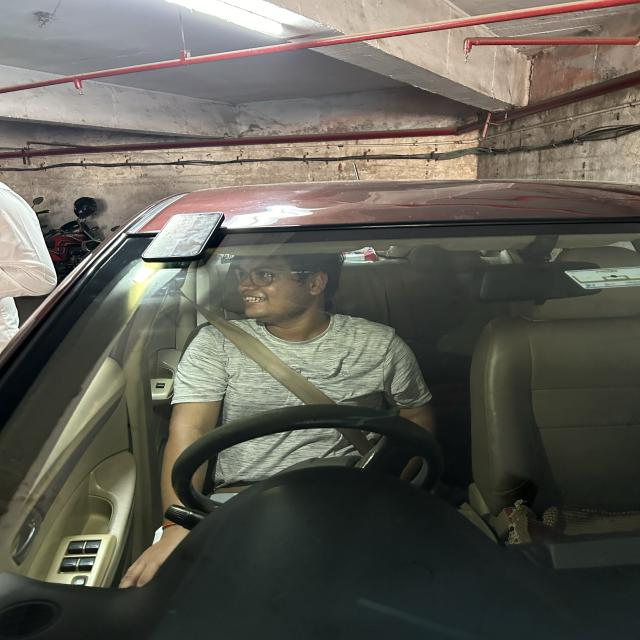seatbelt: (171, 341, 434, 478)
